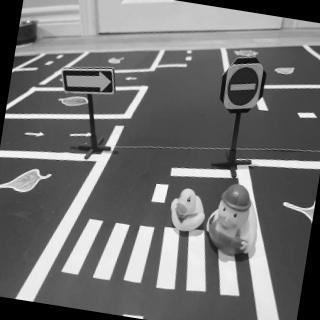duck_regular: (167, 188, 210, 237)
duck_specialty: (204, 182, 267, 262)
road_crosswalk: (57, 207, 253, 304)
road_oneway: (68, 128, 97, 144), (23, 129, 47, 141), (124, 73, 142, 86)
sign_noentry: (224, 59, 266, 116)
sign_oneway_right: (60, 60, 121, 101)
